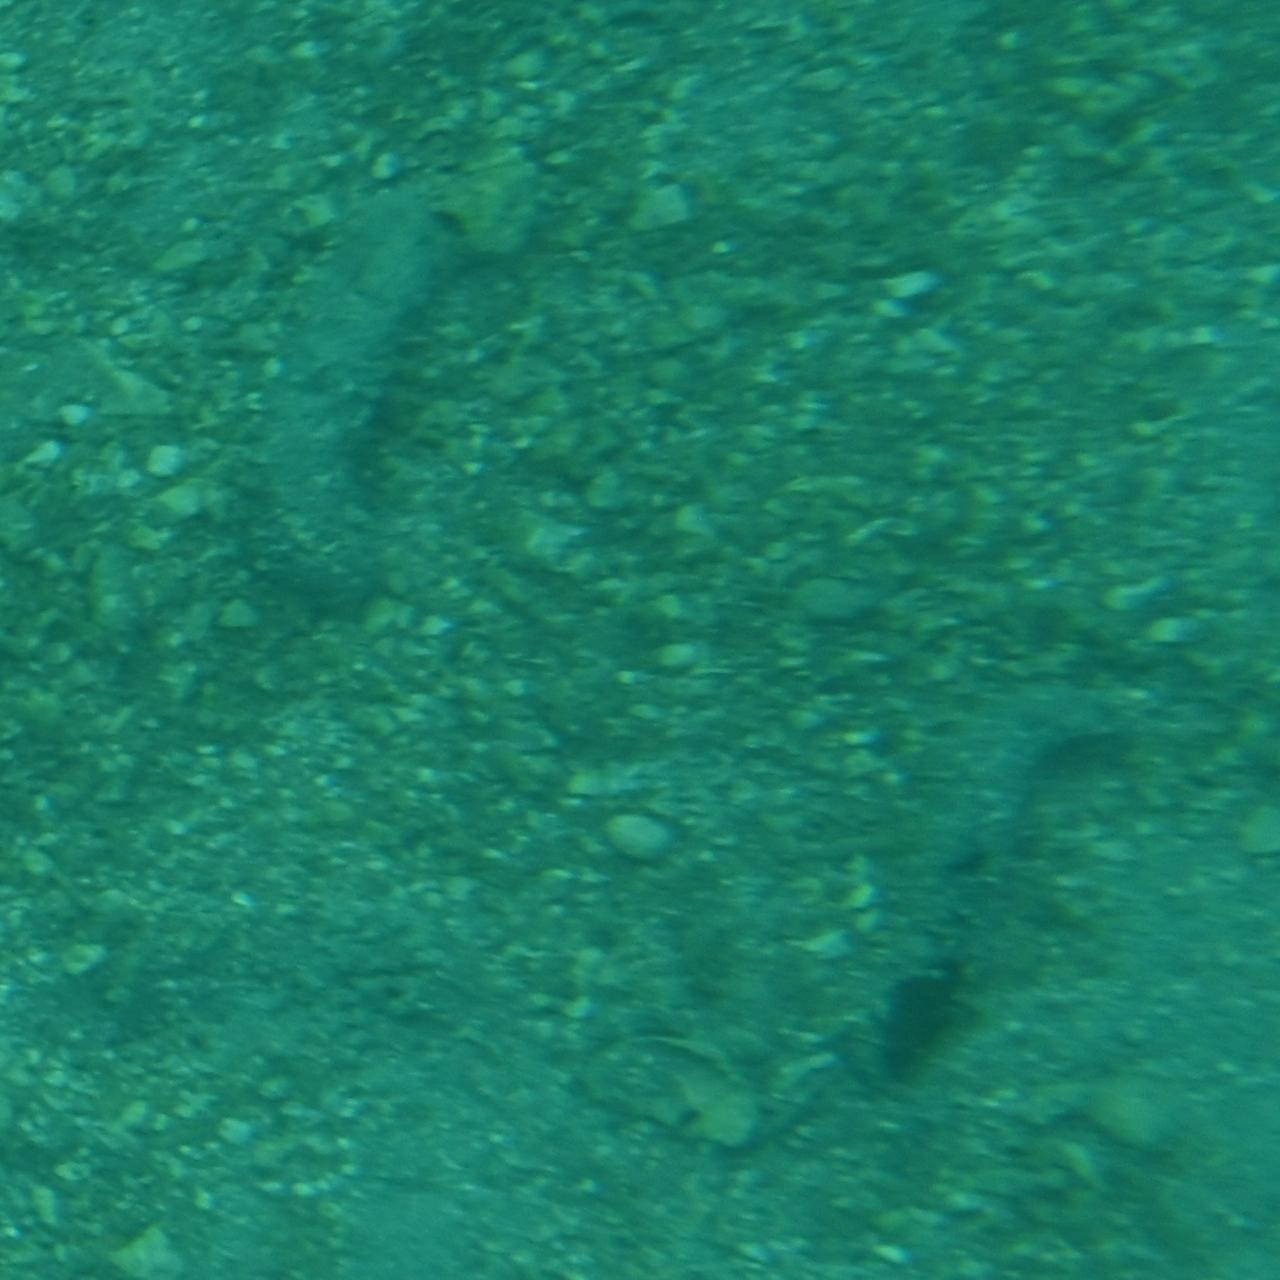Holothuria tubulosa: (840, 680, 1227, 1126), (268, 138, 551, 618)
